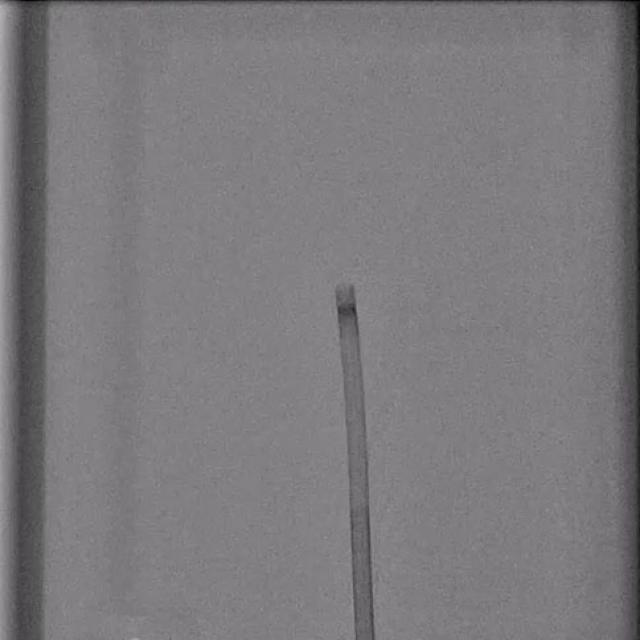bend: (349, 490, 369, 505)
entry: (356, 636, 374, 640)
marker: (337, 302, 357, 316)
tip: (334, 284, 354, 291)
